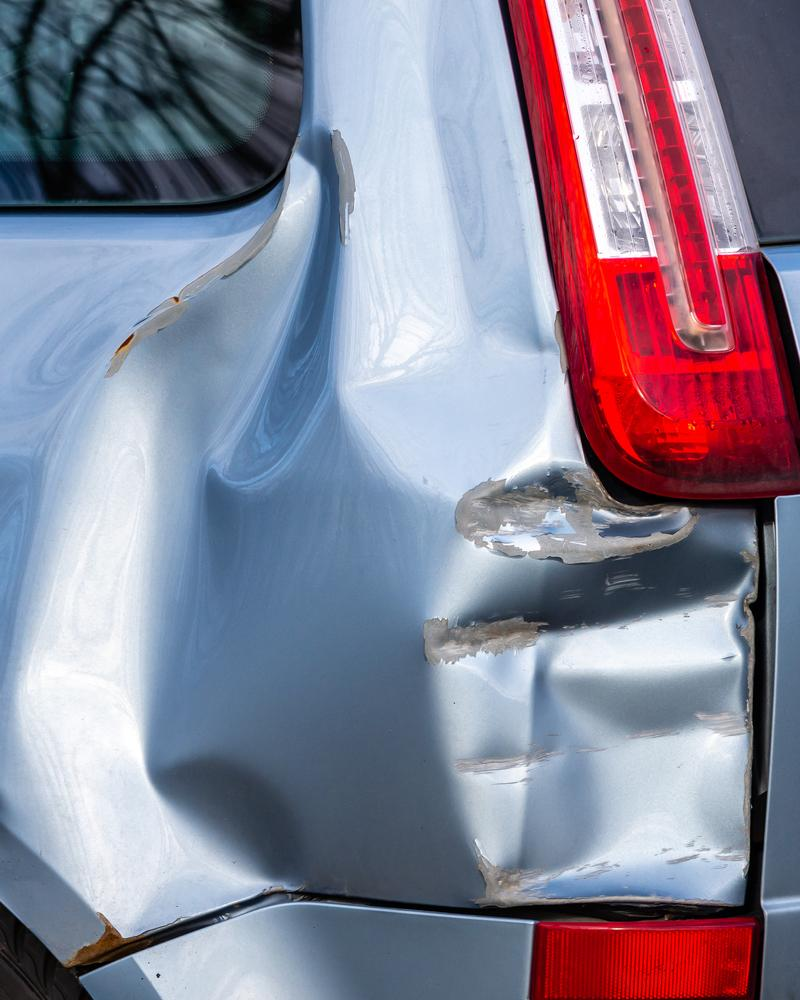dent: (3, 0, 761, 920)
